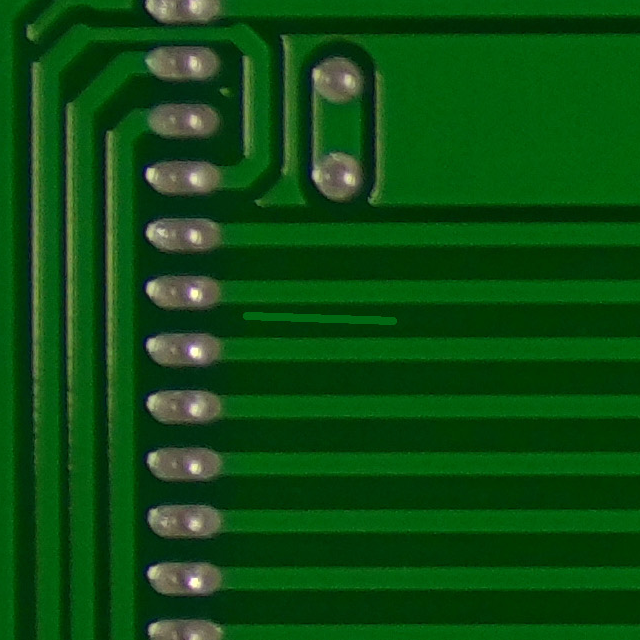spurious_copper: (235, 298, 406, 342)
